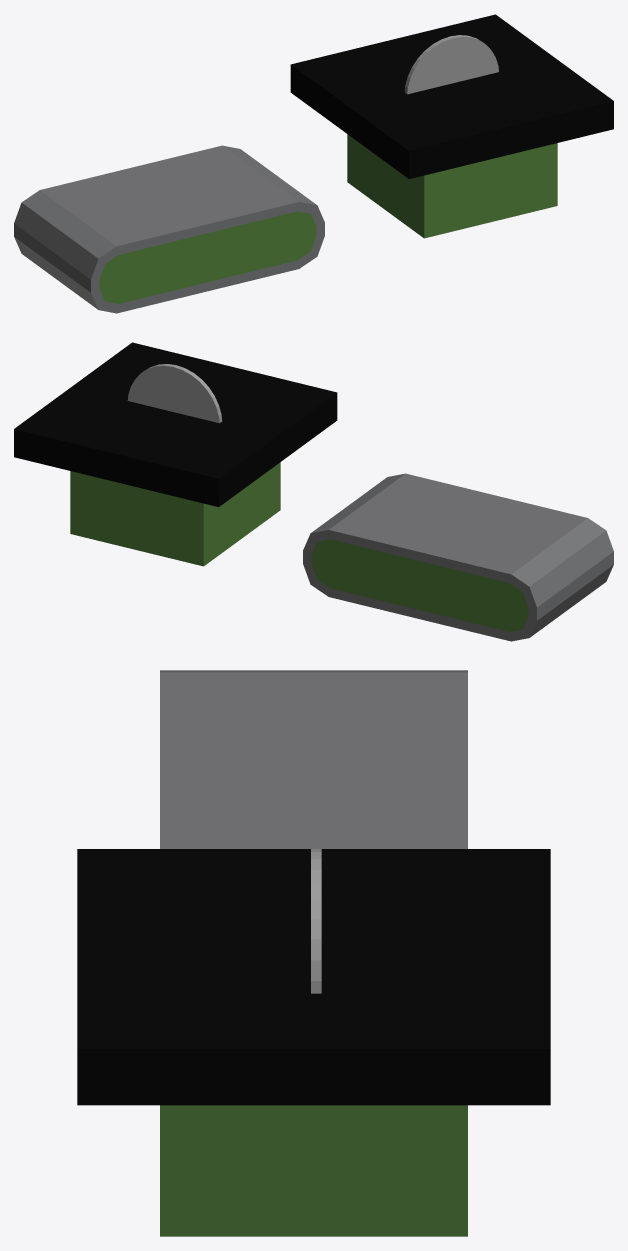
The model's file is WoddenCutterMachine.fbx.
3 renders of one model, top to bottom at view 1: azimuth 30°, elevation 25°; view 2: azimuth 150°, elevation 25°; view 3: azimuth 270°, elevation 25°, orthographic. The views are drawn at different scales.
Parts seen in each view (by area): view 1: Cube, Cube.001, Circle; view 2: Cube, Cube.001, Circle; view 3: Cube, Cube.001, Circle.
Boxes of the visible parts, x1,y1,x2,y2 form: Cube: (290,14,613,238); Cube.001: (14,145,324,313); Circle: (404,35,498,94); Cube: (14,342,337,566); Cube.001: (303,473,613,641); Circle: (127,364,222,423); Cube: (77,849,550,1236); Cube.001: (160,670,467,848); Circle: (311,849,321,993).
Bounding box in the file's own units: 754 × 307 × 224.
